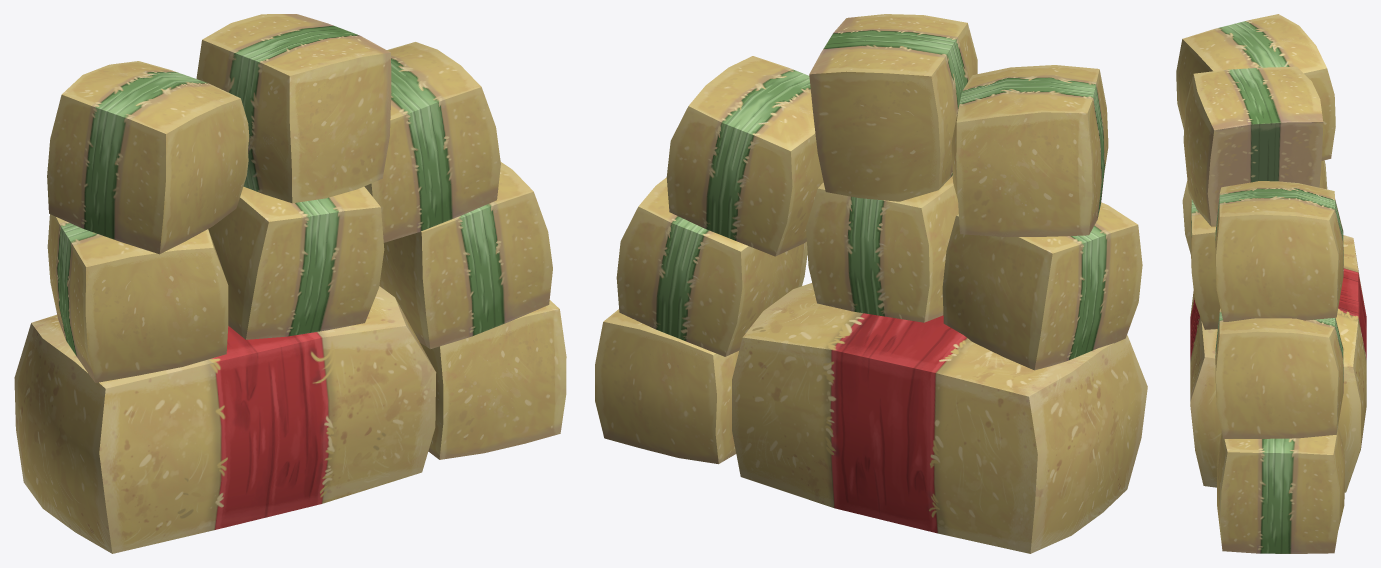
The model's file is StackHaybox.fbx.
The picture shows the model from 3 angles, left to right: view 1: azimuth 30°, elevation 25°; view 2: azimuth 150°, elevation 25°; view 3: azimuth 270°, elevation 25°; orthographic projection. The views are drawn at different scales.
Visible parts, largest first — view 1: polySurface75; view 2: polySurface75; view 3: polySurface75.
Part boxes in pixels (bbox=[...]): polySurface75: bbox=[14, 14, 566, 553]; polySurface75: bbox=[595, 14, 1147, 553]; polySurface75: bbox=[1176, 14, 1366, 553].
Size of the model in its own units: 688 by 592 by 281.
Materials: 2 (2 with a texture image).
